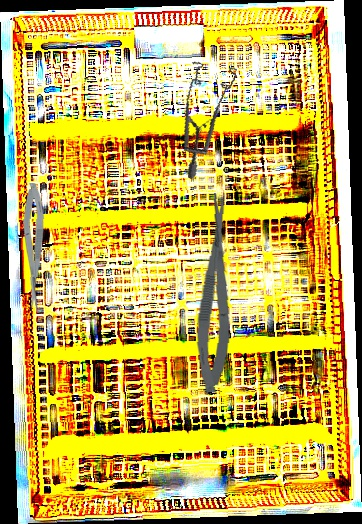Micro Scissor: (192, 192, 241, 393), (20, 182, 46, 314)
Speculum: (159, 51, 262, 179)
